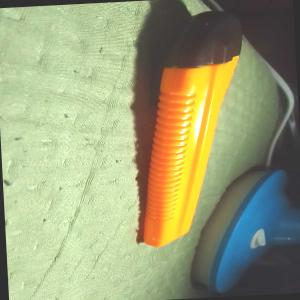estilete: (130, 8, 254, 250)
